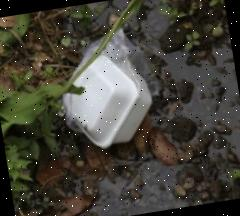general: (50, 23, 164, 155)
